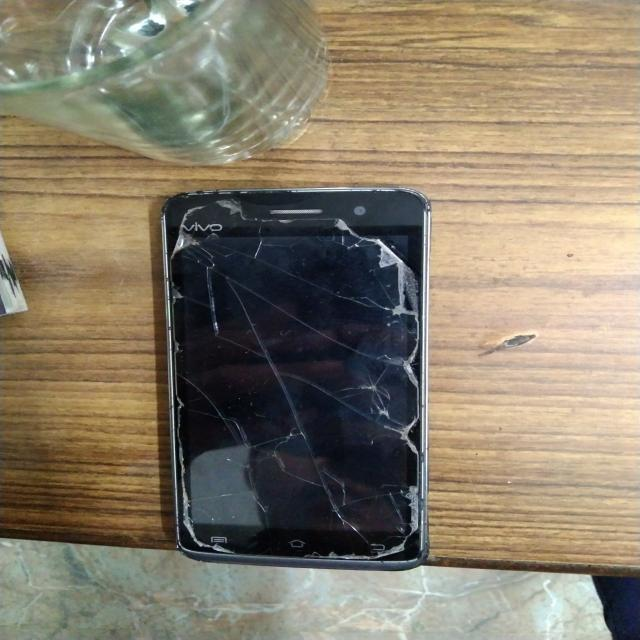Crack: (176, 201, 424, 561)
